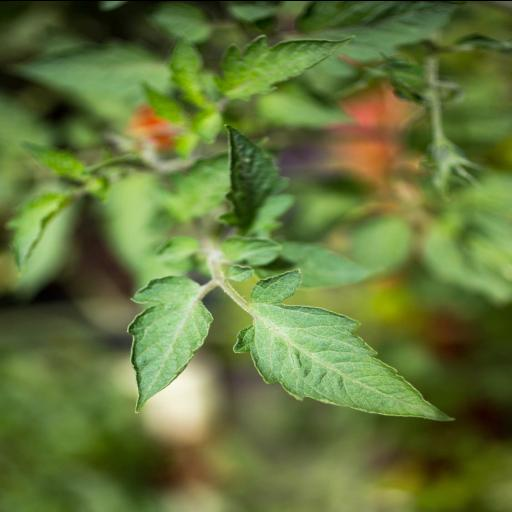Healthy: (236, 268, 464, 420), (118, 258, 214, 430)
